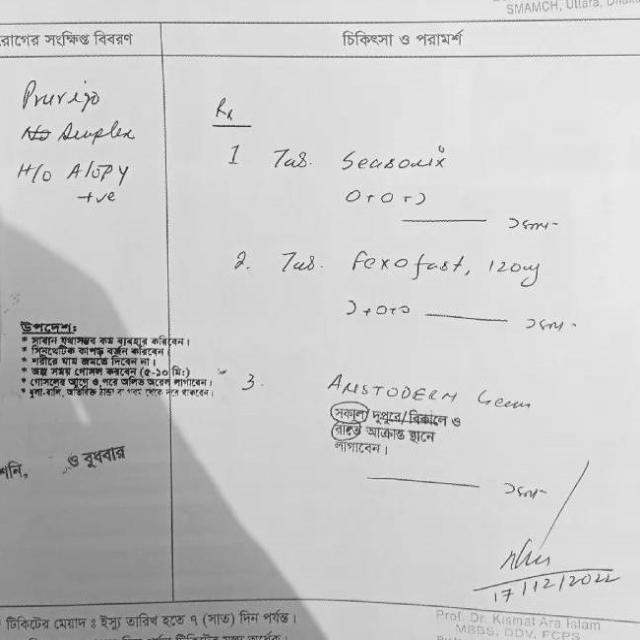medicine: (332, 142, 455, 182), (321, 370, 464, 404), (348, 244, 468, 284)
